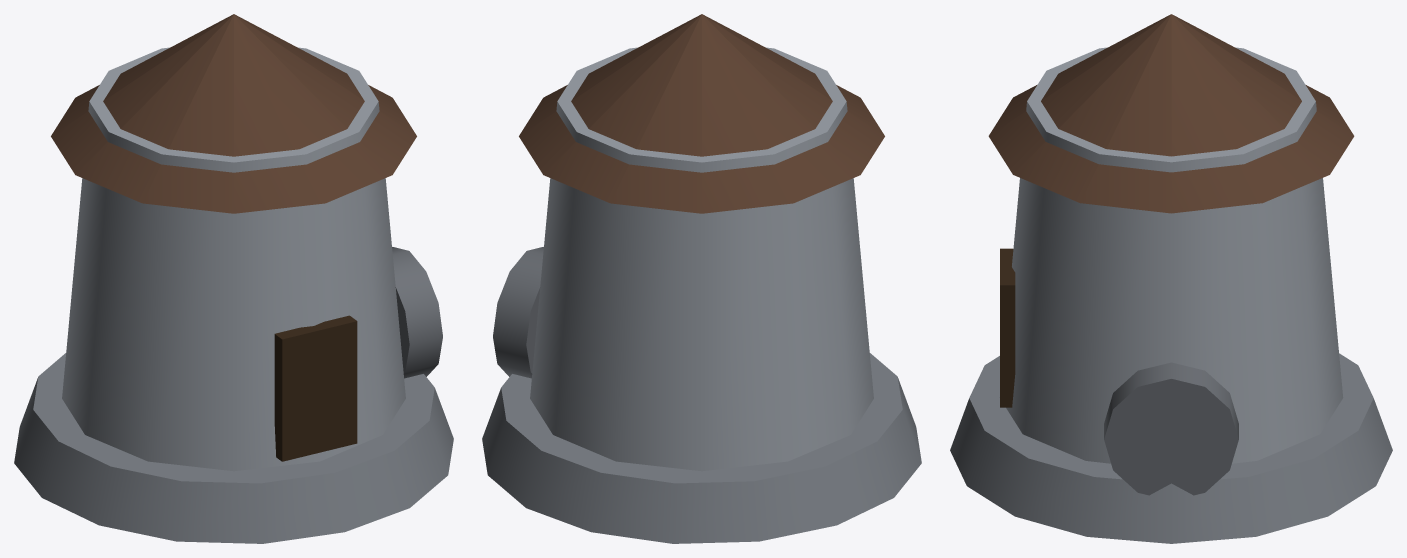
File: mill.glb
The picture shows the model from 3 angles, left to right: view 1: azimuth 30°, elevation 25°; view 2: azimuth 150°, elevation 25°; view 3: azimuth 270°, elevation 25°; orthographic projection.
Visible parts, largest first — view 1: tower, roof, base, door, millstone; view 2: tower, roof, base, millstone; view 3: tower, roof, base, millstone, door.
Part boxes in pixels (bbox=[...]): tower: bbox=[62, 47, 405, 471]; roof: bbox=[51, 14, 416, 213]; base: bbox=[14, 353, 453, 543]; door: bbox=[274, 315, 357, 461]; millstone: bbox=[392, 247, 442, 378]; tower: bbox=[530, 47, 873, 471]; roof: bbox=[519, 14, 884, 213]; base: bbox=[482, 353, 921, 543]; millstone: bbox=[493, 247, 543, 378]; tower: bbox=[999, 47, 1343, 463]; roof: bbox=[988, 14, 1354, 213]; base: bbox=[950, 353, 1392, 543]; millstone: bbox=[1104, 362, 1238, 495]; door: bbox=[1000, 248, 1015, 407].
Bounding box in the file's own units: 2.3 × 2.5 × 2.3.
